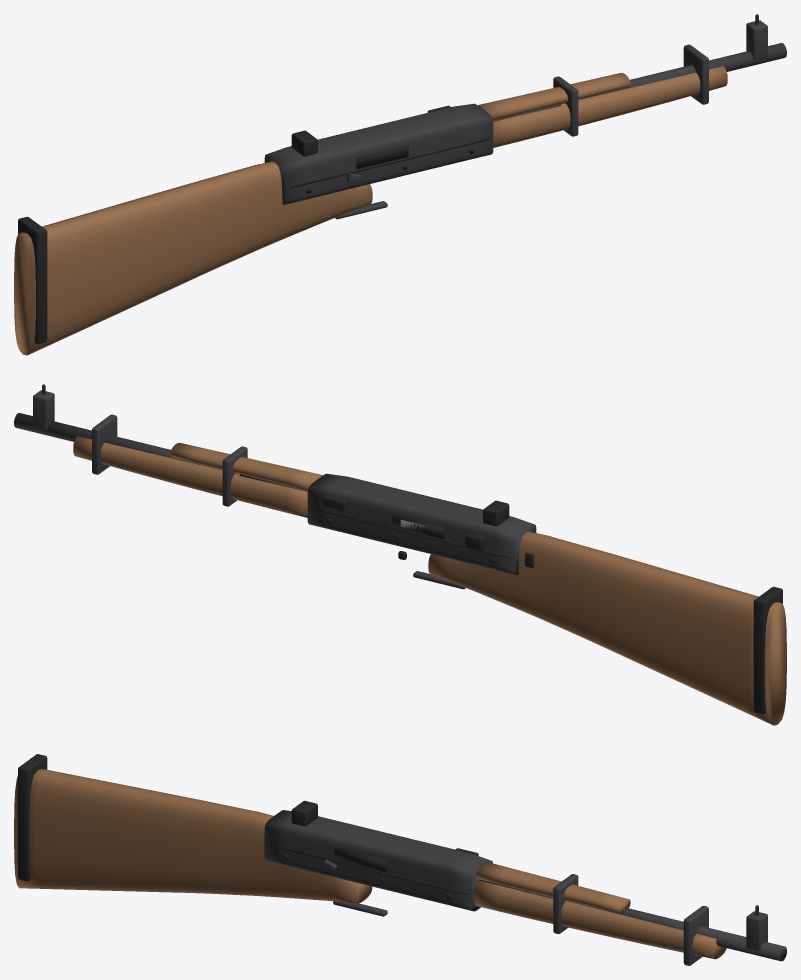
Rendered from SM_Garand.glb.
The picture shows the model from 3 angles, top to bottom: view 1: azimuth 30°, elevation 25°; view 2: azimuth 150°, elevation 25°; view 3: azimuth 330°, elevation 25°; orthographic projection.
Parts seen in each view (by area): view 1: SM_Garand; view 2: SM_Garand; view 3: SM_Garand.
Boxes of the visible parts, x1,y1,x2,y2 form: SM_Garand: (14,14,786,355); SM_Garand: (14,384,786,725); SM_Garand: (14,754,786,965).
Bounding box in the file's own units: 1.03 × 0.2075 × 0.067.
